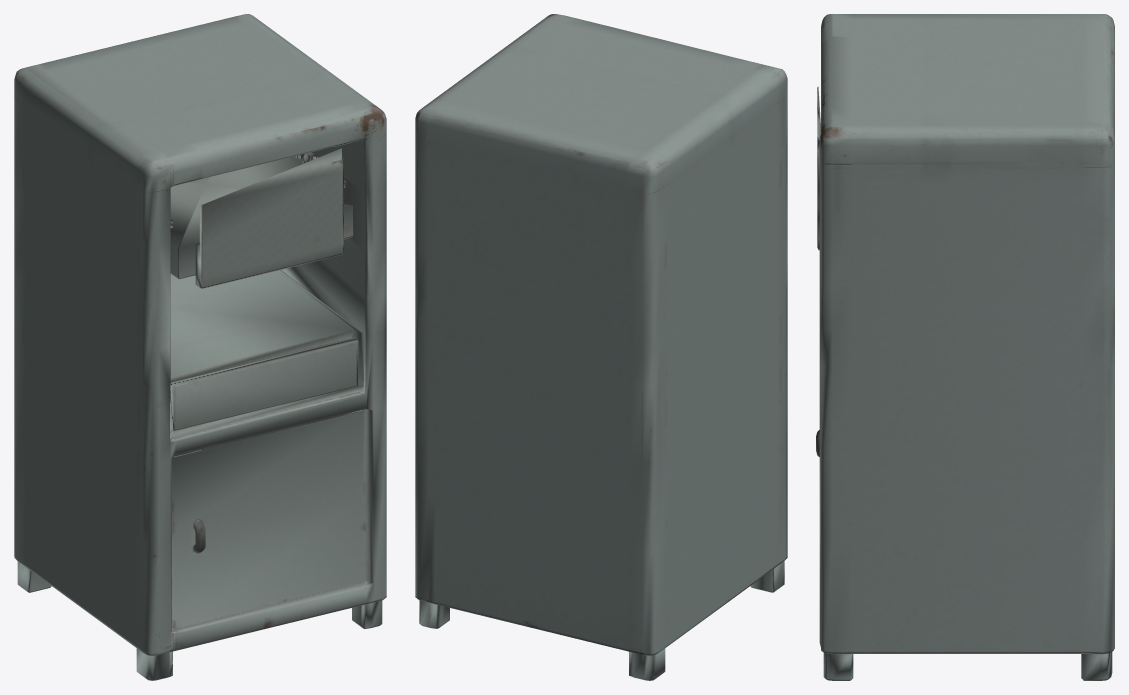
Rendered from SearchableCabinet.fbx.
3 renders of one model, left to right at view 1: azimuth 30°, elevation 25°; view 2: azimuth 150°, elevation 25°; view 3: azimuth 270°, elevation 25°, orthographic. The views are drawn at different scales.
Parts seen in each view (by area): view 1: mesh_node; view 2: mesh_node; view 3: mesh_node.
Part boxes in pixels (left/top/right/bottom): mesh_node: left=14, top=14, right=386, bottom=680; mesh_node: left=415, top=14, right=787, bottom=680; mesh_node: left=816, top=14, right=1114, bottom=680.
Size of the model in its own units: 92.76 by 191 by 93.93.
1 material, 1 textured.
